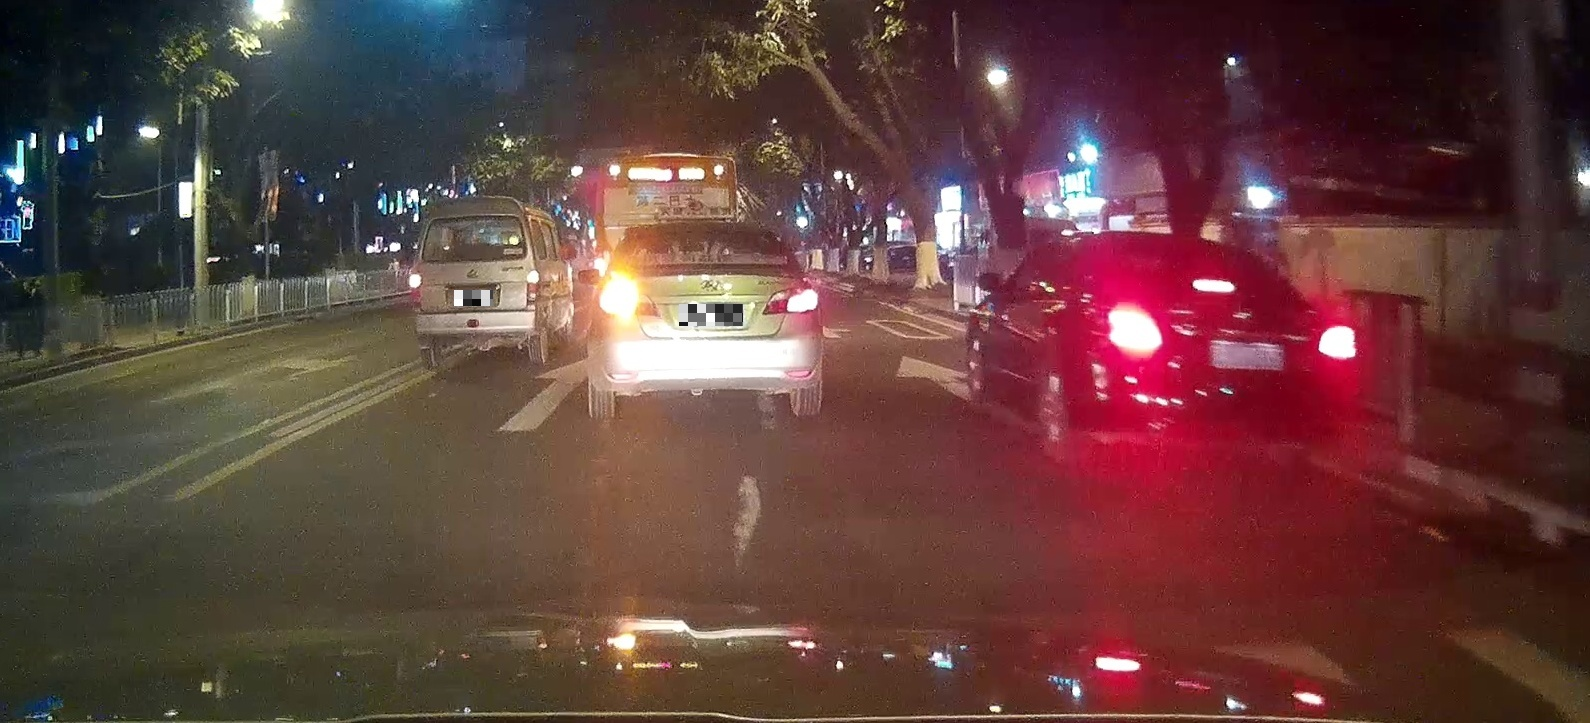L_light: (1105, 302, 1162, 357), (597, 278, 661, 318), (407, 272, 423, 312)
R_light: (762, 284, 821, 315), (1317, 326, 1358, 361), (524, 269, 539, 308)
T_light: (1192, 278, 1236, 293), (698, 223, 725, 227), (458, 257, 484, 261)
night-left: (588, 222, 821, 419)
night-no: (1080, 230, 1360, 483), (407, 197, 540, 368)
plate_1: (454, 290, 493, 306)
plate_2: (679, 304, 743, 326)
